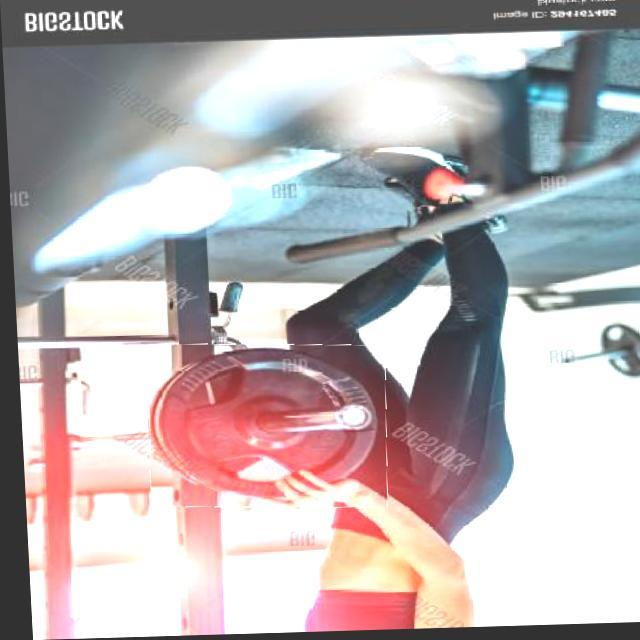barbell: (142, 343, 387, 514)
